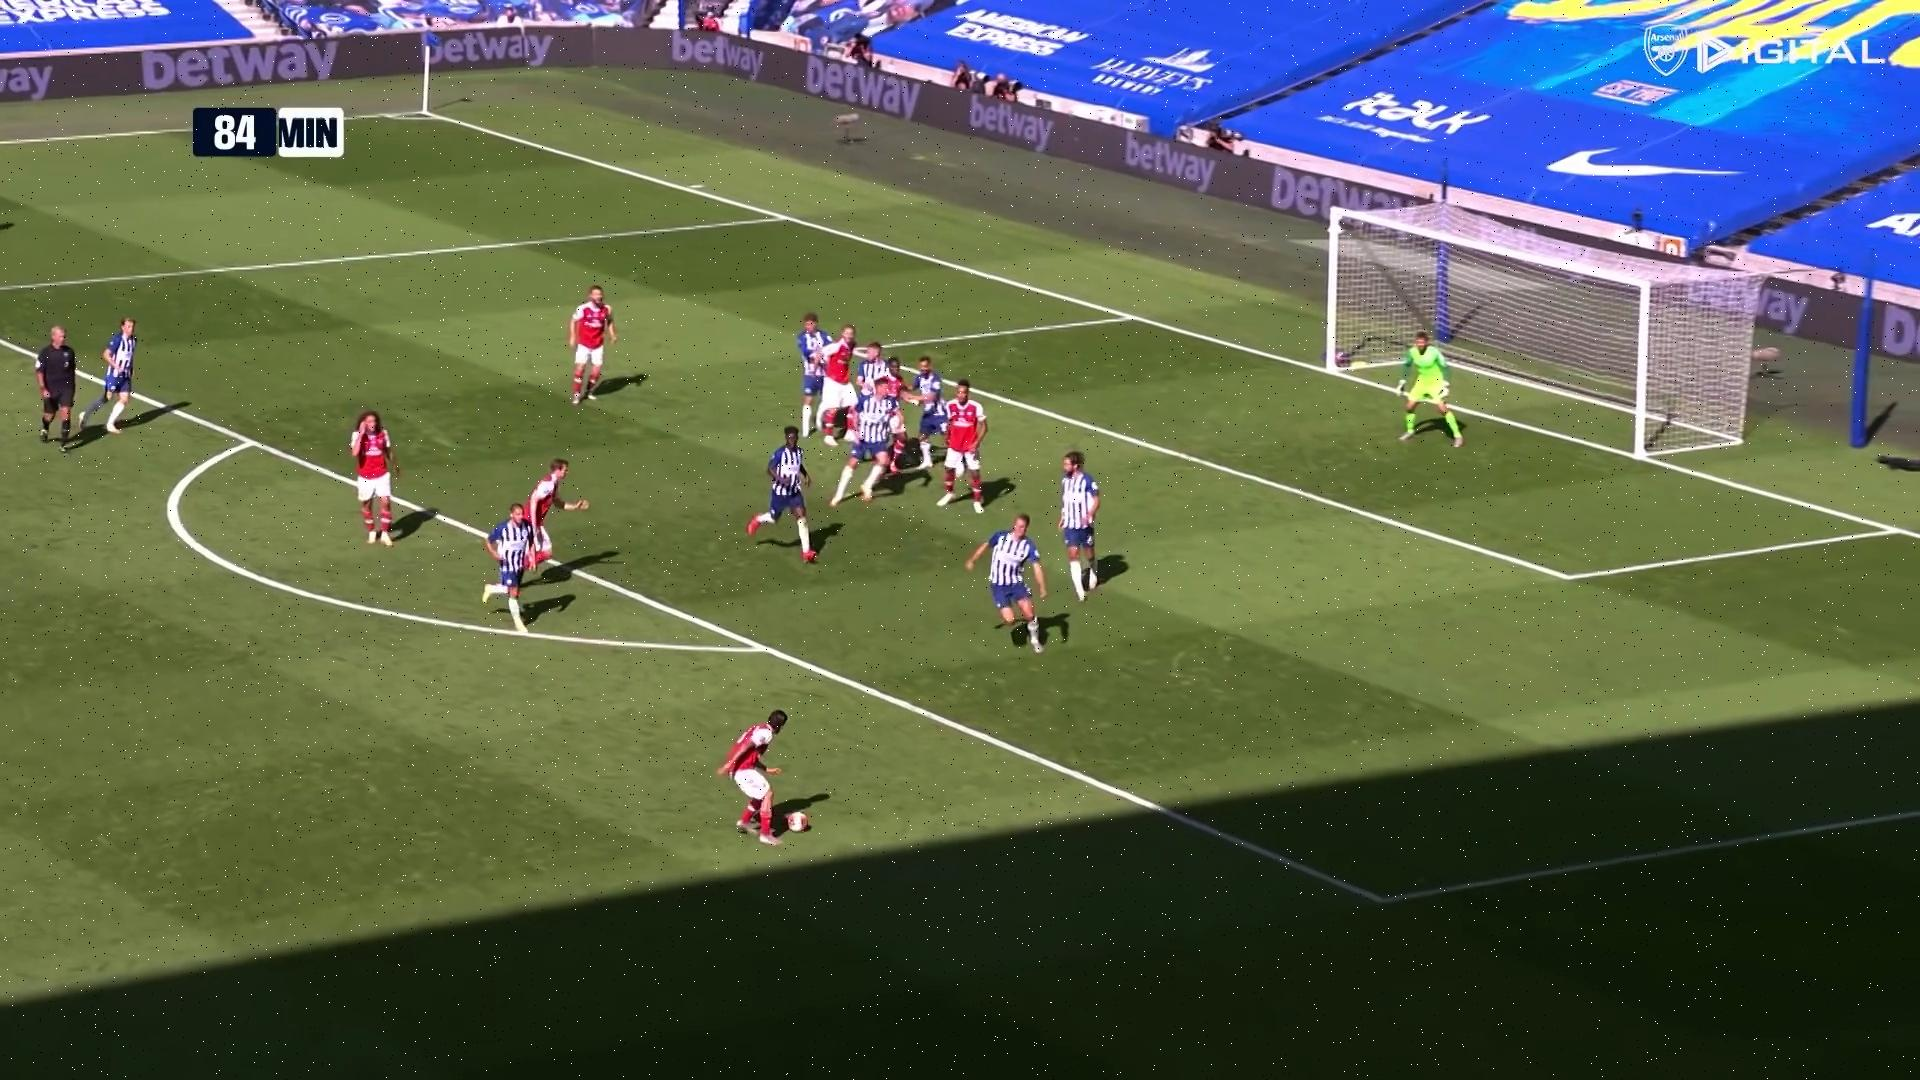ball: (787, 811, 810, 832)
